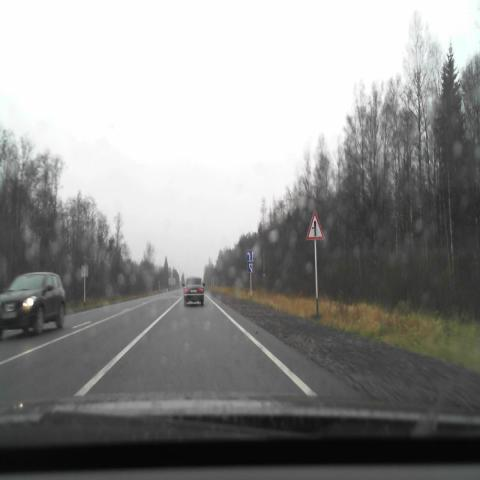2_3_3: (306, 209, 325, 240)
